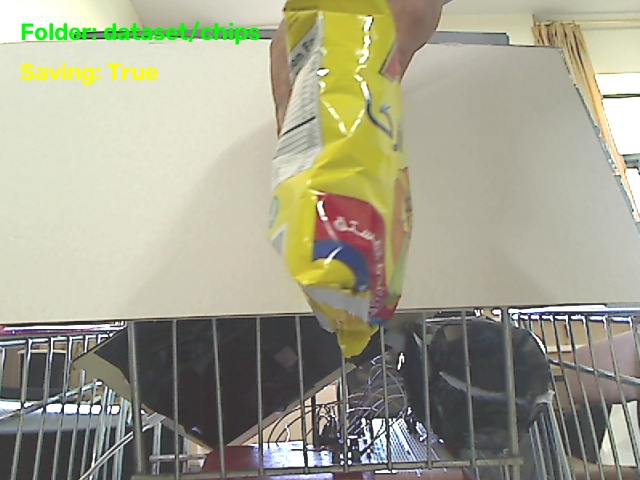chips: (269, 0, 411, 356)
